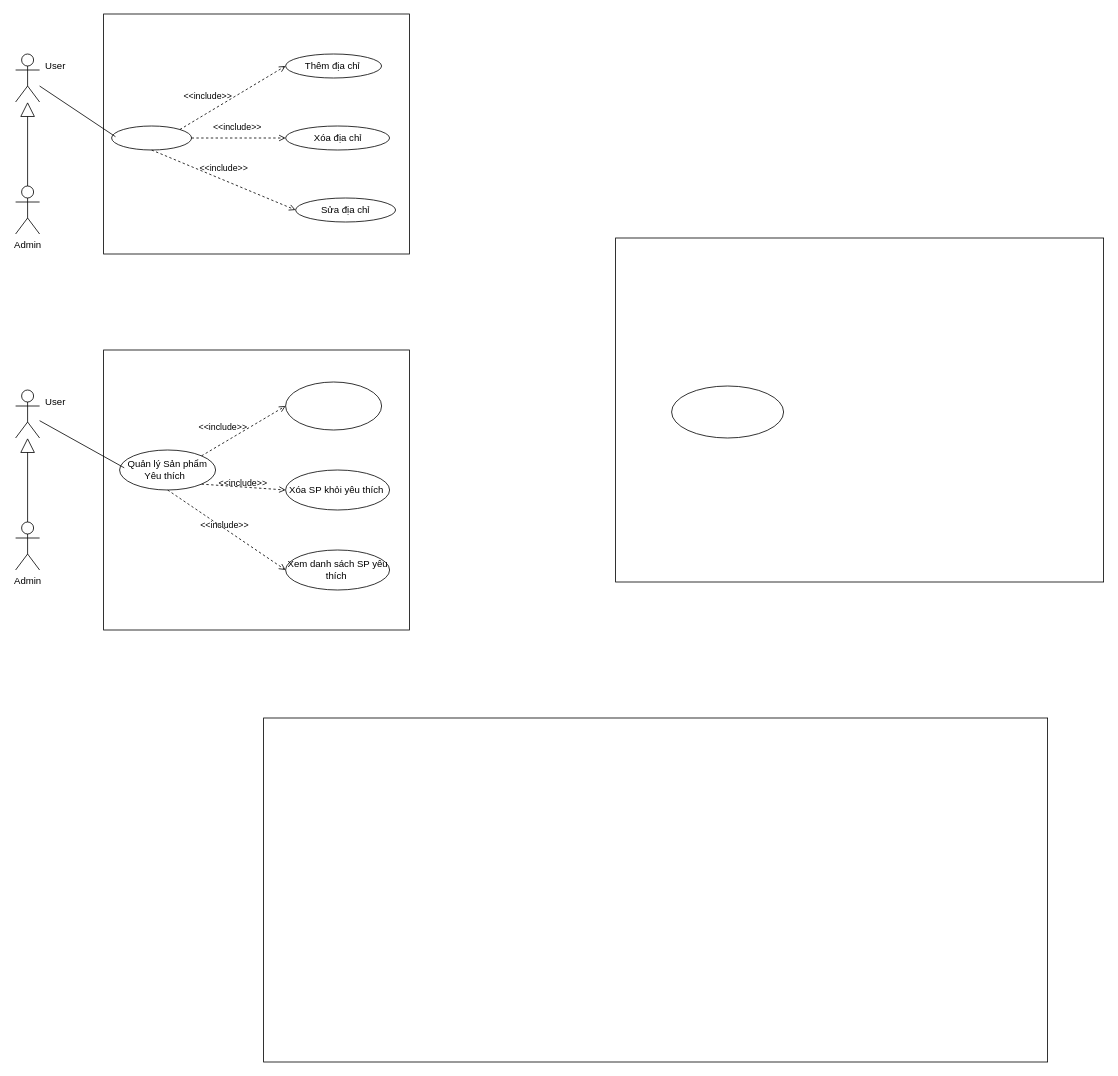
This 1118x1076 diagram has some shape labels left out. Each missing label, with the box of its shape:
Quản lý địa chỉ: (111, 125, 192, 150)
Thêm sản phẩm yêu thích: (285, 381, 382, 430)
Đánh giá: (671, 385, 784, 438)
